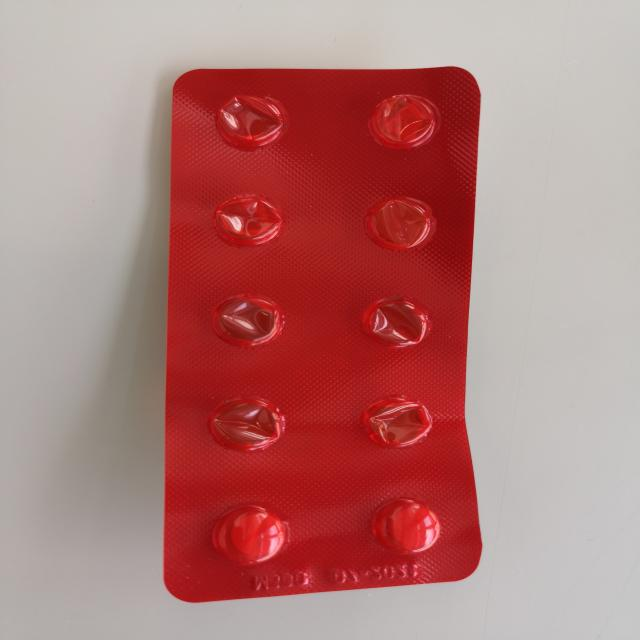Empty: (198, 182, 301, 248), (359, 84, 452, 151), (353, 189, 445, 256), (200, 287, 290, 352), (206, 86, 292, 153), (206, 395, 294, 458), (355, 390, 443, 452), (353, 293, 441, 355)
Pill: (209, 495, 299, 571), (370, 494, 449, 560)
